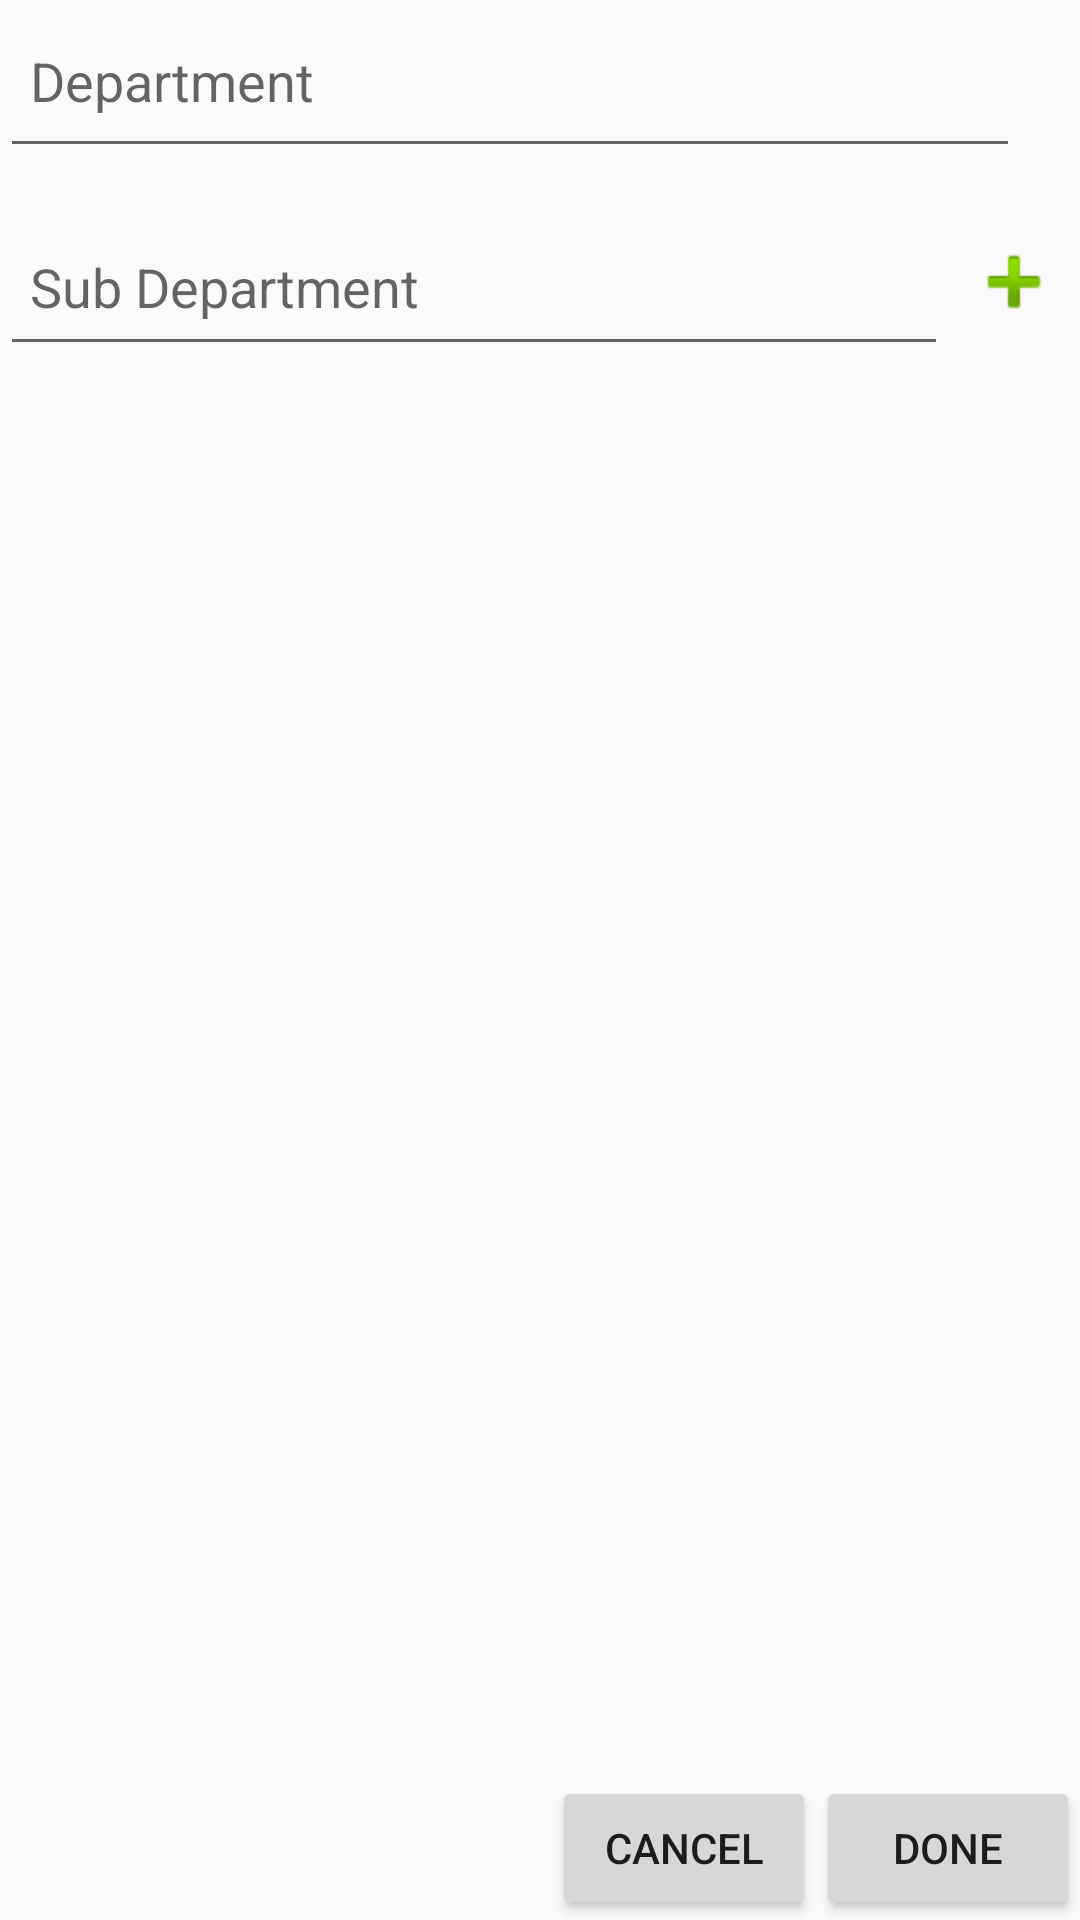

Point at icon controls on the screen. Image size 1080w x 1920h, points as [x,y].
add: [1014,282]
